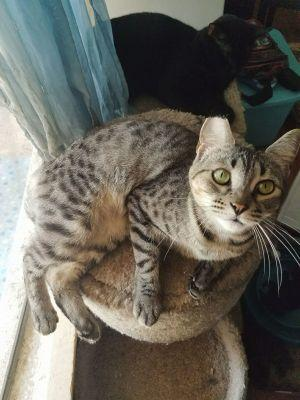bengal: (185, 103, 300, 251)
